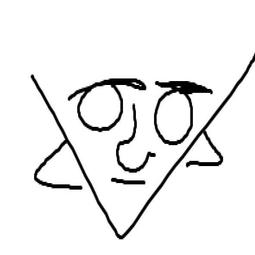ear: (27, 137, 85, 194), (183, 129, 225, 181)
empty_eye: (69, 80, 128, 138), (152, 87, 195, 147)
large_nose: (113, 105, 157, 174)
line_unsmiling_mouth: (107, 176, 151, 190)
